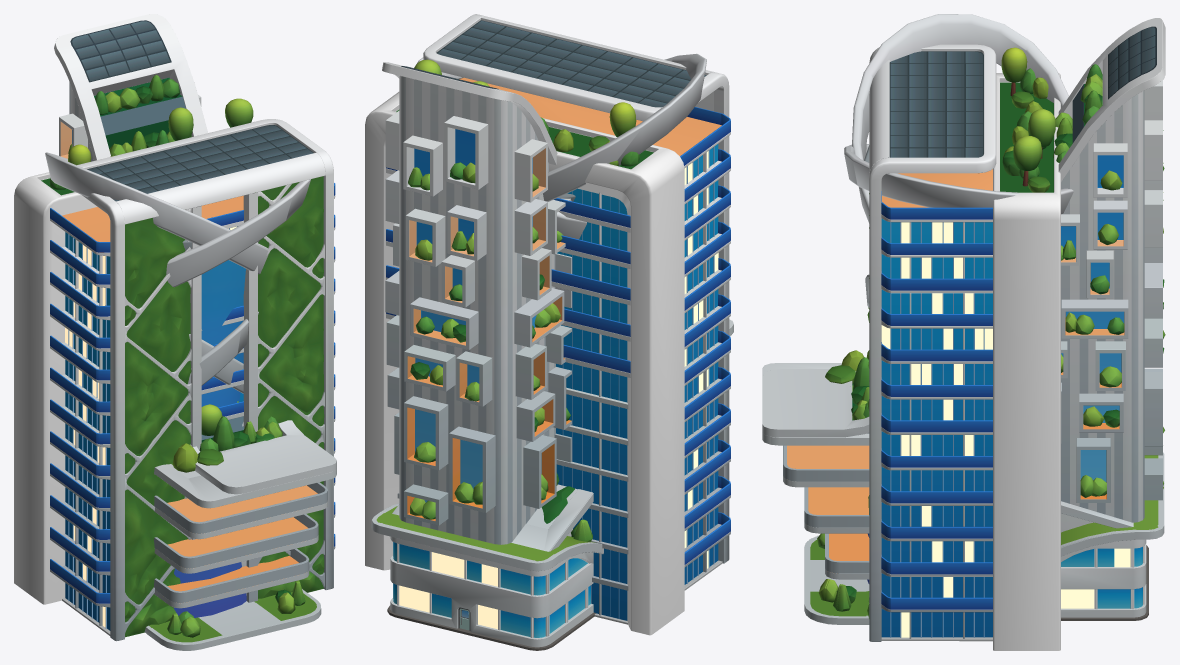
File: kit.m.glb
3 views of the same model, side by side, from view 1: azimuth 30°, elevation 25°; view 2: azimuth 150°, elevation 25°; view 3: azimuth 270°, elevation 25° (orthographic). The views are drawn at different scales.
Parts seen in each view (by area): view 1: Cube.125, Eco_Building_Slope, Cylinder.005, Cube.018, Eco_Building_Grid_NightLight; view 2: Cube.125, Eco_Building_Slope, Cube.018, Cylinder.005, Eco_Building_Terrace_NightLight, Eco_Building_Grid_NightLight; view 3: Cube.125, Eco_Building_Slope, Cube.018, Cylinder.005, Eco_Building_Grid_NightLight, Eco_Building_Terrace_NightLight.
Part boxes in pixels (x1,y1,x2,y2): Cube.125: (14,98,335,641); Eco_Building_Slope: (54,14,336,650); Cylinder.005: (45,152,310,617); Cube.018: (149,404,327,643); Eco_Building_Grid_NightLight: (65,226,236,627); Cube.125: (365,14,730,635); Eco_Building_Slope: (375,62,733,649); Cube.018: (371,320,732,650); Cylinder.005: (415,53,706,239); Eco_Building_Terrace_NightLight: (399,552,497,629); Eco_Building_Grid_NightLight: (684,151,718,568); Cube.125: (867,44,1060,650); Eco_Building_Slope: (762,18,1165,621); Cube.018: (764,350,1164,624); Cylinder.005: (844,14,1073,583); Eco_Building_Grid_NightLight: (881,222,992,637); Eco_Building_Terrace_NightLight: (1061,548,1130,608).
Bounding box in the file's own units: 30.86 × 57.38 × 38.49.
Materials: 10 (9 with a texture image).
